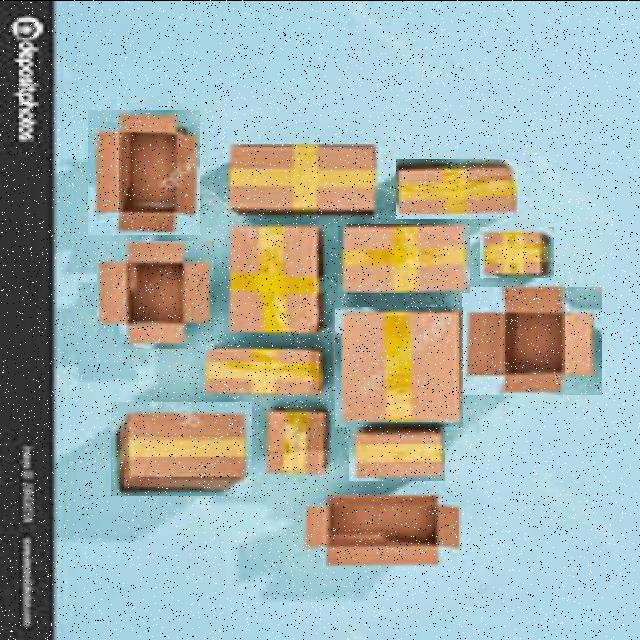defect: (462, 286, 602, 394), (88, 109, 200, 234), (302, 486, 464, 569), (97, 240, 214, 348)
normal: (335, 306, 463, 426), (222, 138, 380, 222), (111, 402, 252, 496), (223, 218, 325, 338), (338, 223, 470, 292), (396, 158, 518, 218), (202, 343, 324, 403), (349, 426, 445, 480), (480, 226, 554, 277)
